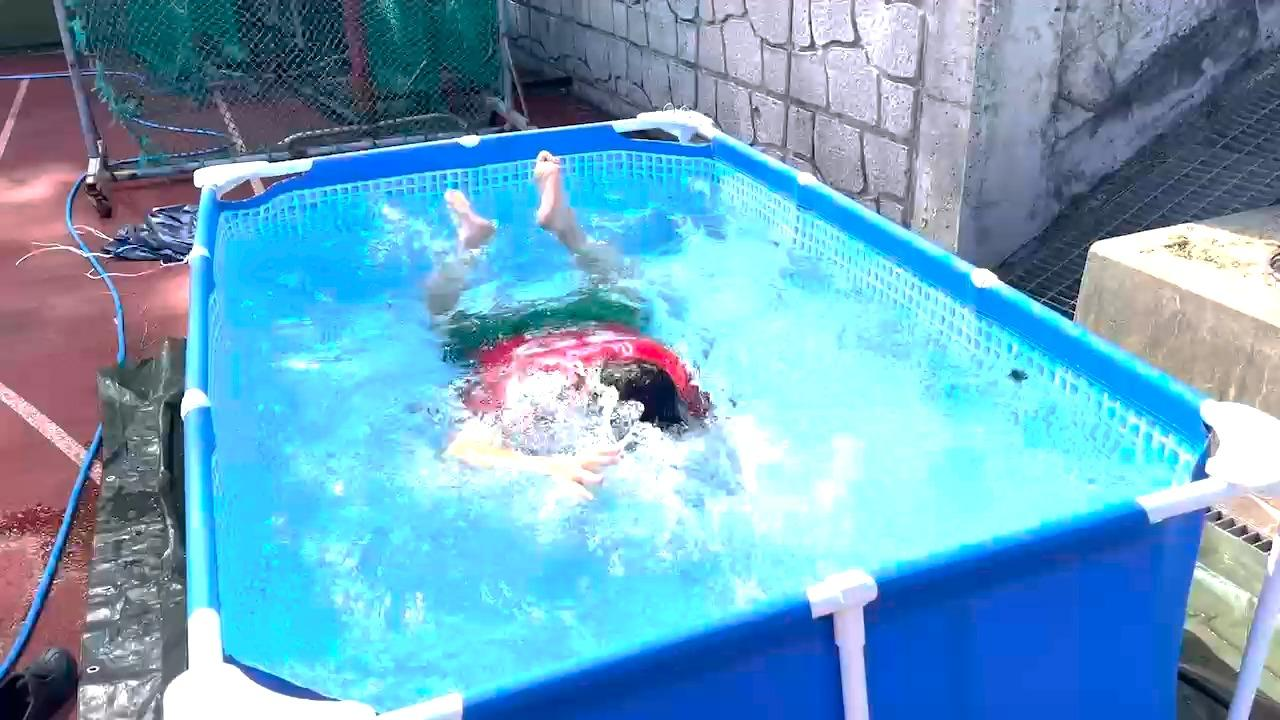Drowning: (429, 205, 744, 488)
